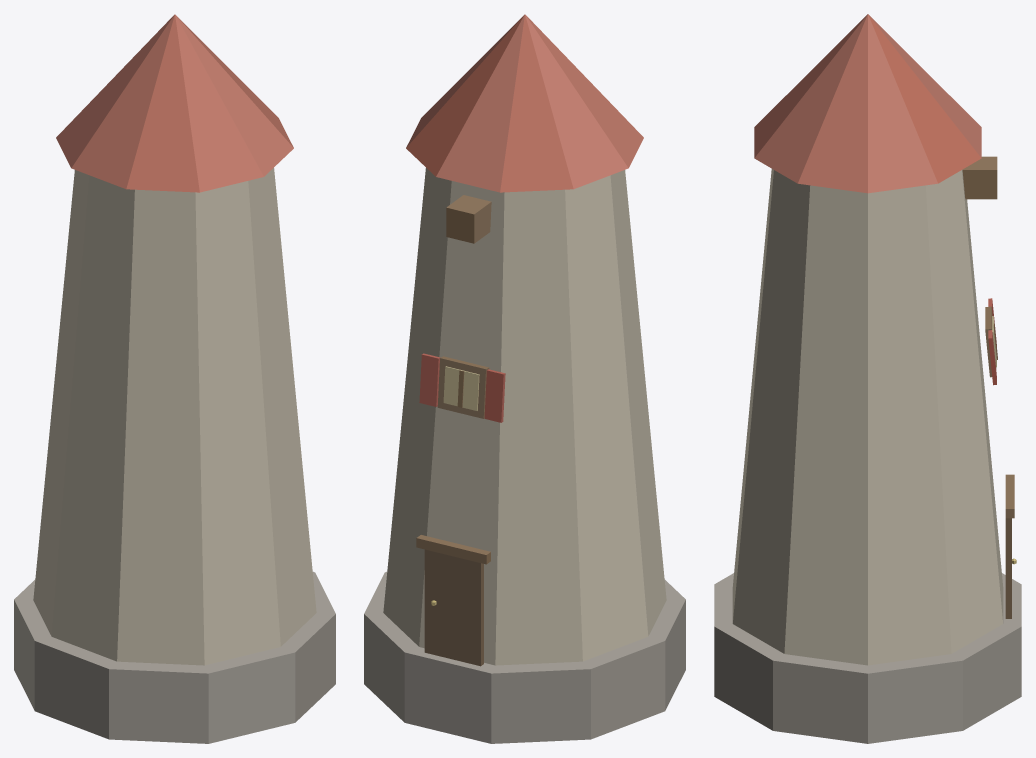
File: windmill.glb
3 renders of one model, left to right at view 1: azimuth 30°, elevation 25°; view 2: azimuth 150°, elevation 25°; view 3: azimuth 270°, elevation 25°, orthographic.
Visible parts, largest first — view 1: windmill2; view 2: windmill2; view 3: windmill2.
Boxes of the visible parts, bbox=[...] form: windmill2: bbox=[14, 14, 335, 743]; windmill2: bbox=[364, 14, 685, 743]; windmill2: bbox=[714, 14, 1021, 743].
Bounding box in the file's own units: 5 × 11.3 × 4.76.
